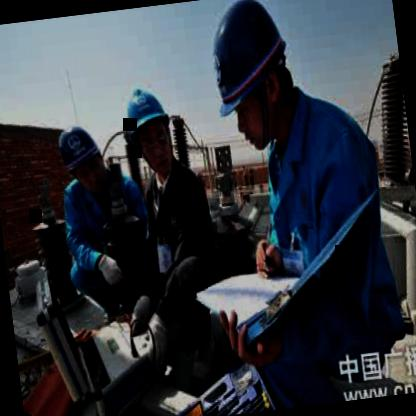helmet: (196, 0, 307, 155), (121, 80, 178, 181), (57, 118, 107, 196)
